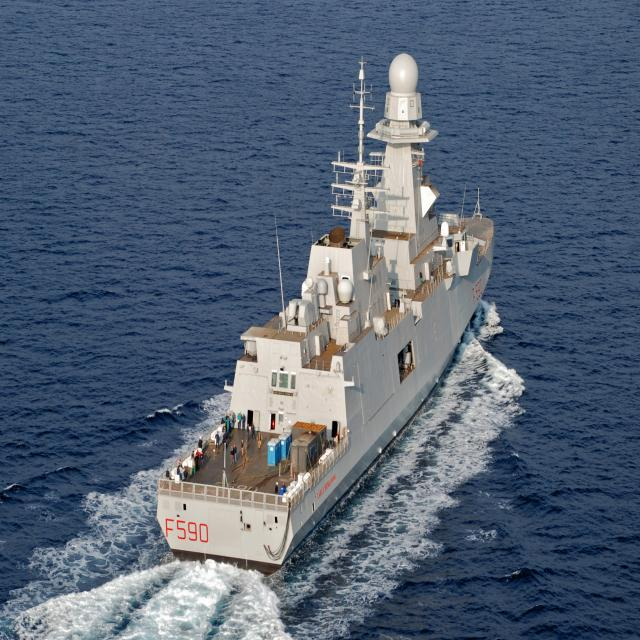Fragata: (241, 33, 401, 591)
